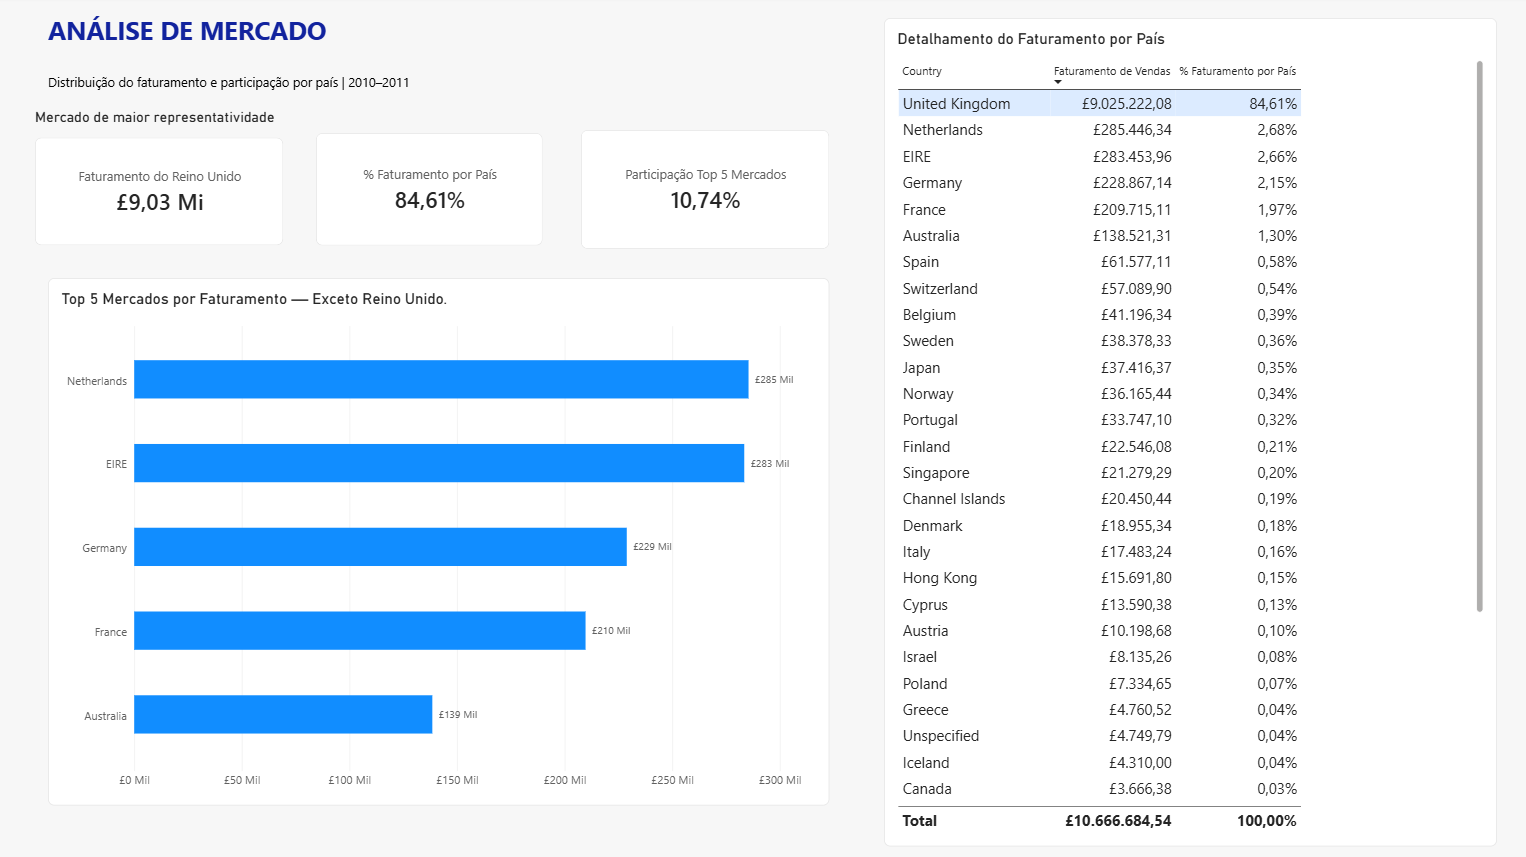

Layout of this report page (visuals, bound fields, positions):
{"tool":"powerbi","page":{"name":"02 - Análise de Mercados","canvas":[1920,1080],"ordinal":1},"visuals":[{"type":"tableEx","title":"Detalhamento do Faturamento por País","fields":{"Values":["Online Retail.Country","Online Retail.Faturamento de Vendas","Calendario.% Faturamento por País"]},"box":[1112.7,28.1,768.3,1037.9],"z":0},{"type":"cardVisual","title":"Mercado de maior representatividade","fields":{"Data":["Online Retail.Faturamento de Vendas"]},"box":[48.3,140.3,311.7,173],"z":1000},{"type":"cardVisual","fields":{"Data":["Calendario.% Faturamento por País"]},"box":[401.4,171.2,284.7,141.6],"z":2000},{"type":"textbox","box":[65.5,96.6,550.1,49.9],"z":3000},{"type":"textbox","box":[65.5,20.3,358.4,76.4],"z":4000},{"type":"clusteredBarChart","title":"Top 5 Mercados por Faturamento — Exceto Reino Unido.","fields":{"Category":["Online Retail.Country"],"Y":["Online Retail.Faturamento de Vendas"]},"box":[65.3,353.2,978.7,661.3],"z":5000},{"type":"cardVisual","fields":{"Data":["Calendario.Participação Top 5 Mercados"]},"box":[732.8,168,311.2,149.4],"z":6000}]}

Visuals, with their boxes in screenshot pixels (x1, y1, x2, y2), scaled from the page's 1920x1080 canvas onto the 1526x857 screenshot:
"Detalhamento do Faturamento por País" tableEx: box=[884, 22, 1495, 846]
"Mercado de maior representatividade" cardVisual: box=[38, 111, 286, 249]
cardVisual - Calendario.% Faturamento por País: box=[319, 136, 545, 248]
textbox: box=[52, 77, 489, 116]
textbox: box=[52, 16, 337, 77]
"Top 5 Mercados por Faturamento — Exceto Reino Unido." clusteredBarChart: box=[52, 280, 830, 805]
cardVisual - Calendario.Participação Top 5 Mercados: box=[582, 133, 830, 252]
